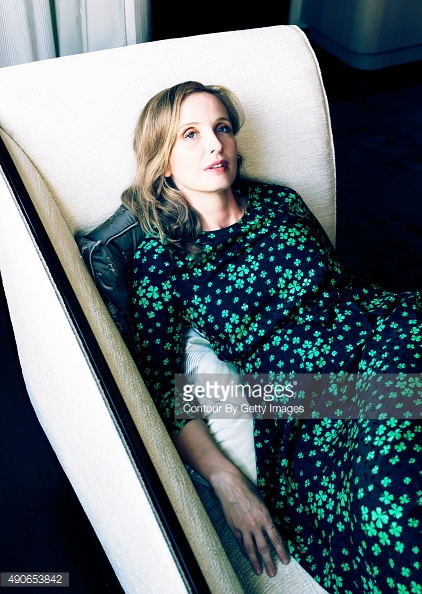deitado: (90, 61, 367, 538)
